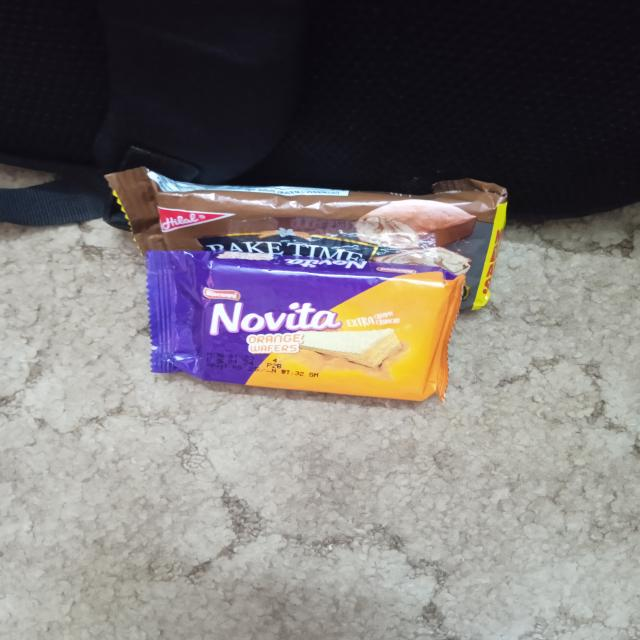Plastic: (138, 260, 464, 404), (103, 165, 513, 277)
